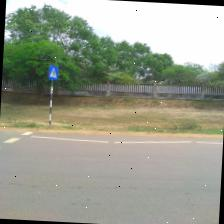blueboard: (48, 64, 58, 81)
